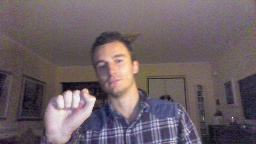Pugno: (42, 88, 97, 139)
